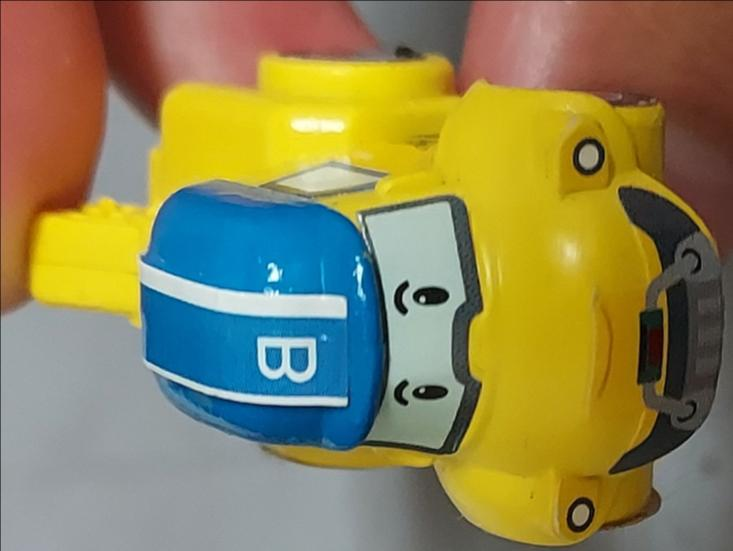car: (1, 1, 733, 551)
